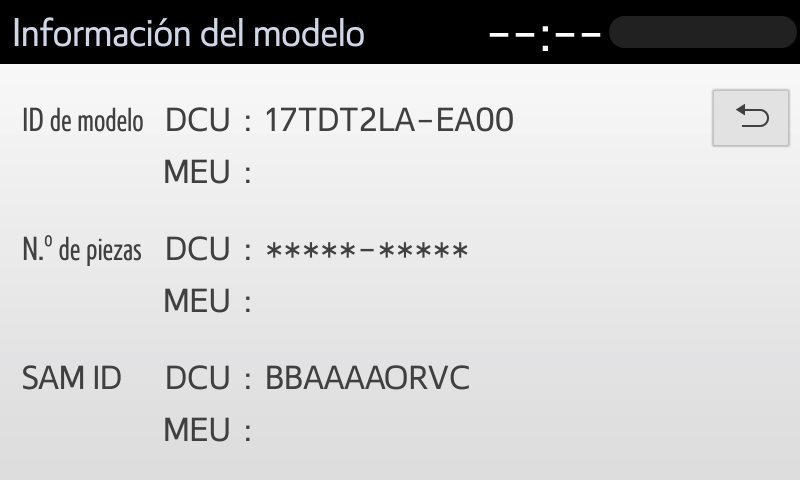touchPart: (706, 84, 796, 156)
untouchPart: (7, 95, 520, 448), (476, 12, 797, 54), (12, 15, 366, 50)
